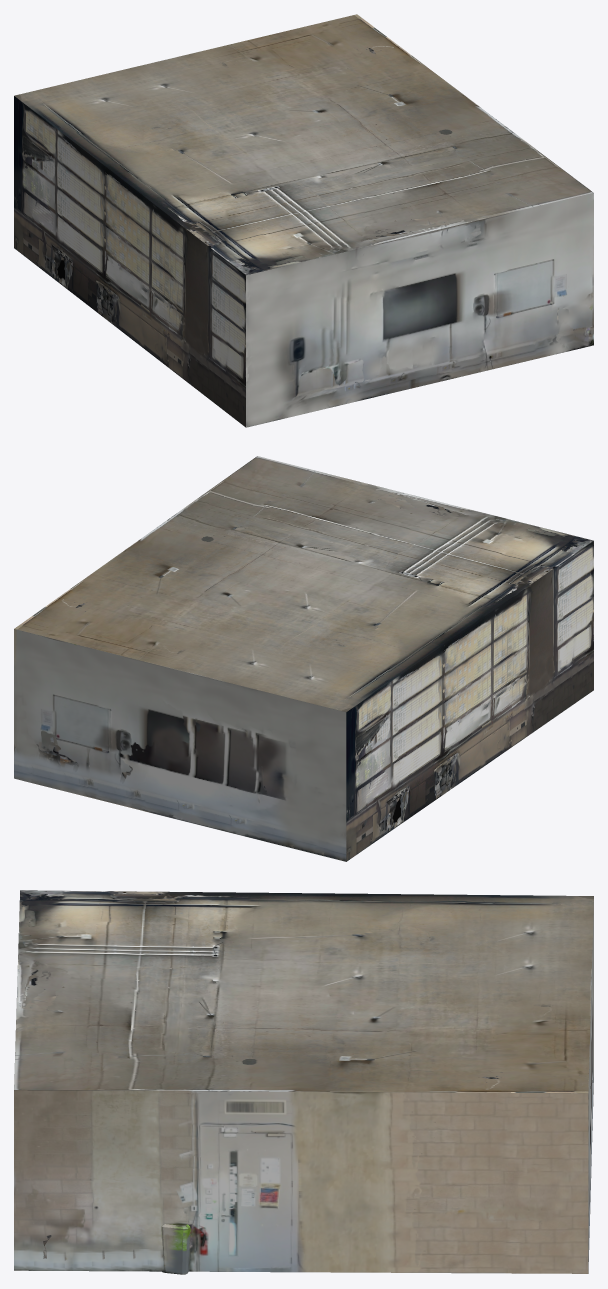
3 renders of one model, top to bottom at view 1: azimuth 30°, elevation 25°; view 2: azimuth 150°, elevation 25°; view 3: azimuth 270°, elevation 25°, orthographic. The views are drawn at different scales.
Visible parts, largest first — view 1: 1_m112v2-IM; view 2: 1_m112v2-IM; view 3: 1_m112v2-IM.
Part boxes in pixels (x1,y1,x2,y2): 1_m112v2-IM: (14, 14, 593, 427); 1_m112v2-IM: (14, 456, 593, 861); 1_m112v2-IM: (14, 890, 593, 1274).
Size of the model in its own units: 750 by 313 by 905.
Materials: 1 (1 with a texture image).
